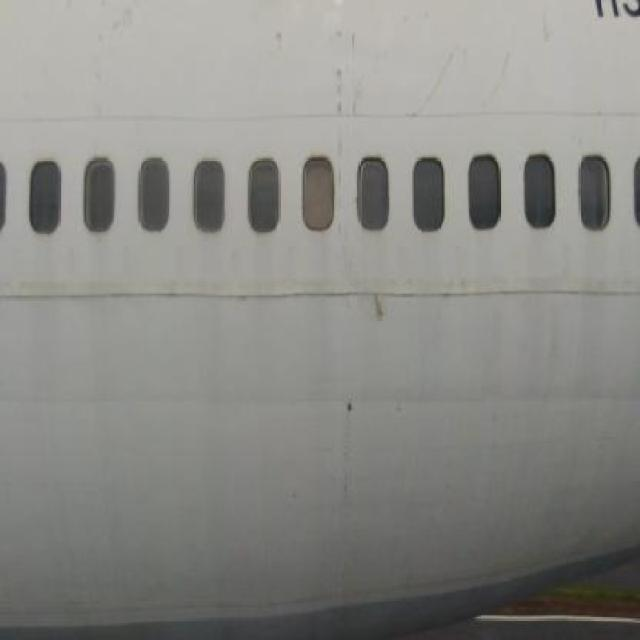Scartch: (408, 37, 520, 123), (322, 24, 366, 128), (336, 382, 382, 476), (361, 262, 414, 338)
